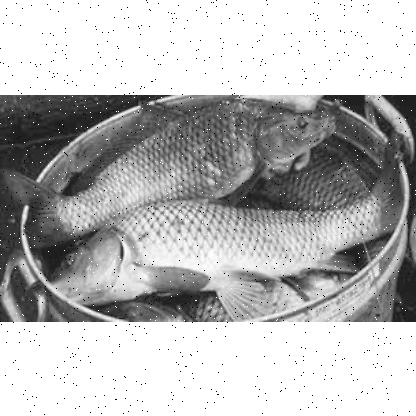ikan-mas: (21, 95, 338, 235), (50, 196, 400, 302)
